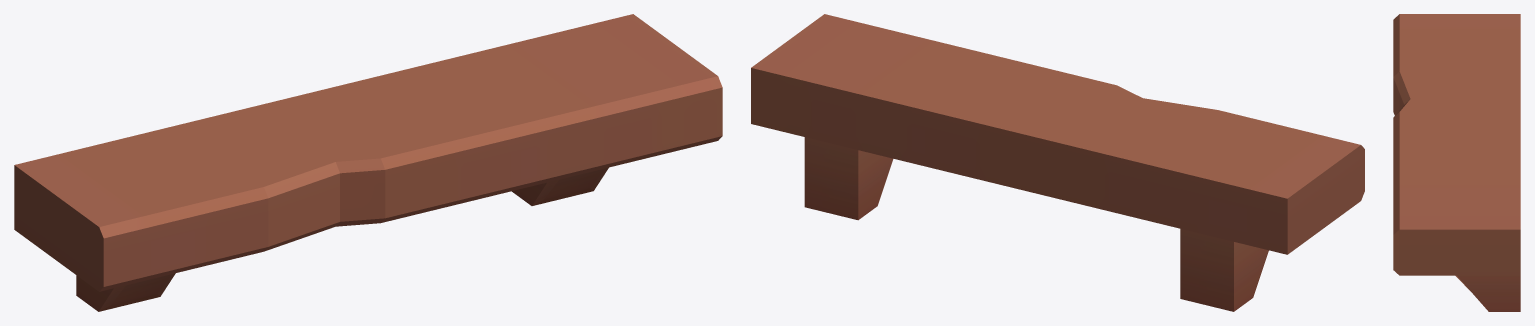
File: shelf_large.glb
The picture shows the model from 3 angles, left to right: view 1: azimuth 30°, elevation 25°; view 2: azimuth 150°, elevation 25°; view 3: azimuth 270°, elevation 25°; orthographic projection. The views are drawn at different scales.
Visible parts, largest first — view 1: shelf_large; view 2: shelf_large; view 3: shelf_large.
Part boxes in pixels (x1=…): shelf_large: x1=14, y1=14, x2=722, y2=311; shelf_large: x1=751, y1=14, x2=1364, y2=311; shelf_large: x1=1393, y1=14, x2=1520, y2=311.
Bounding box in the file's own units: 2 × 0.45 × 0.5001.
1 material, 1 textured.
